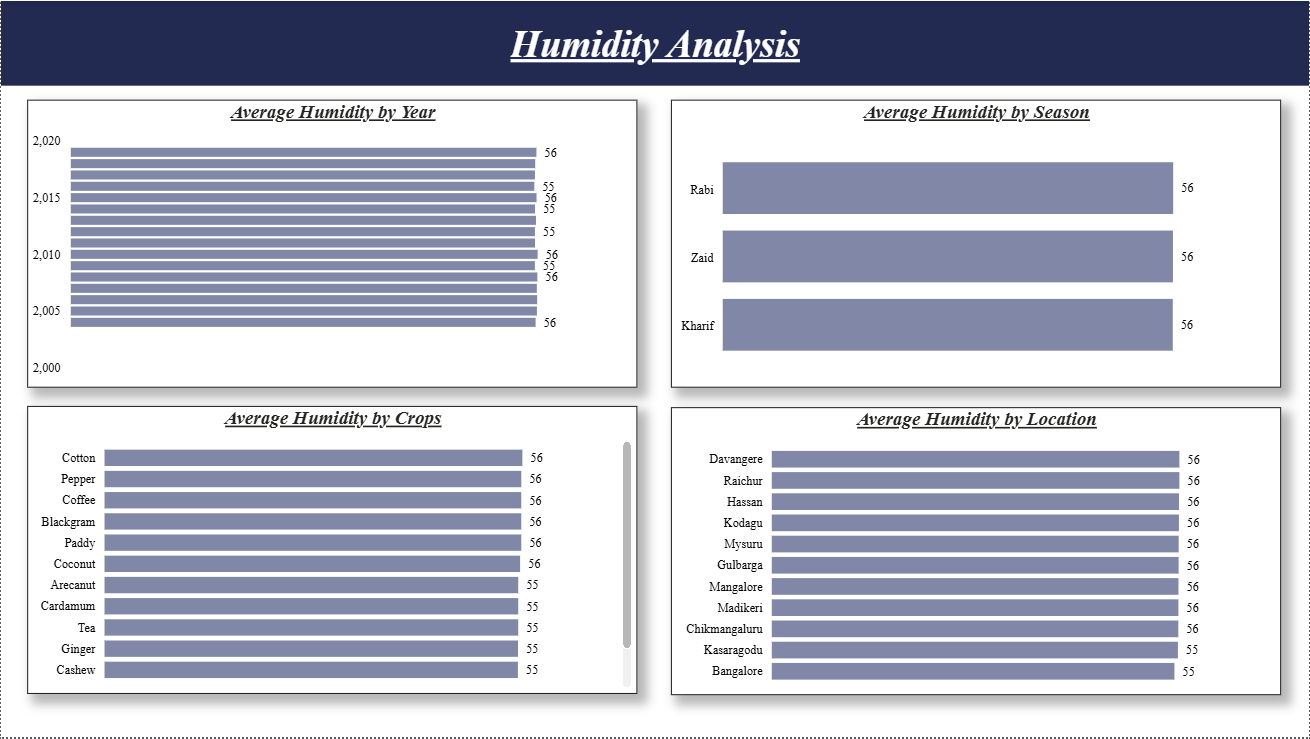

The page's visual inventory and layout, read from the dashboard file:
{"tool":"powerbi","page":{"name":"Humidity Analysis","canvas":[1280,720],"ordinal":2},"visuals":[{"type":"shape","box":[0,0,1280,82.9],"z":0},{"type":"barChart","title":"Average Humidity by Year","fields":{"Category":["ARGRICULTURE.YEAR"],"Y":["Avg(ARGRICULTURE.HUMIDITY)"]},"box":[25.7,97.1,597.1,281.4],"z":1000},{"type":"barChart","title":"Average Humidity by Season","fields":{"Category":["ARGRICULTURE.SEASON"],"Y":["Avg(ARGRICULTURE.HUMIDITY)"]},"box":[655.7,97.1,597.1,281.4],"z":2000},{"type":"barChart","title":"Average Humidity by Crops","fields":{"Category":["ARGRICULTURE.CROPS"],"Y":["Avg(ARGRICULTURE.HUMIDITY)"]},"box":[25.7,395.7,597.1,281.4],"z":3000},{"type":"barChart","title":"Average Humidity by  Location","fields":{"Category":["ARGRICULTURE.LOCATION"],"Y":["Avg(ARGRICULTURE.HUMIDITY)"]},"box":[655.7,397.1,597.1,281.4],"z":4000}]}

Visuals, with their boxes in screenshot pixels (x1, y1, x2, y2), scaled from the page's 1280x720 canvas onto the 1310x739 screenshot:
shape: 0 0 1309 85
"Average Humidity by Year" barChart: 26 100 637 388
"Average Humidity by Season" barChart: 671 100 1282 388
"Average Humidity by Crops" barChart: 26 406 637 695
"Average Humidity by  Location" barChart: 671 408 1282 696
